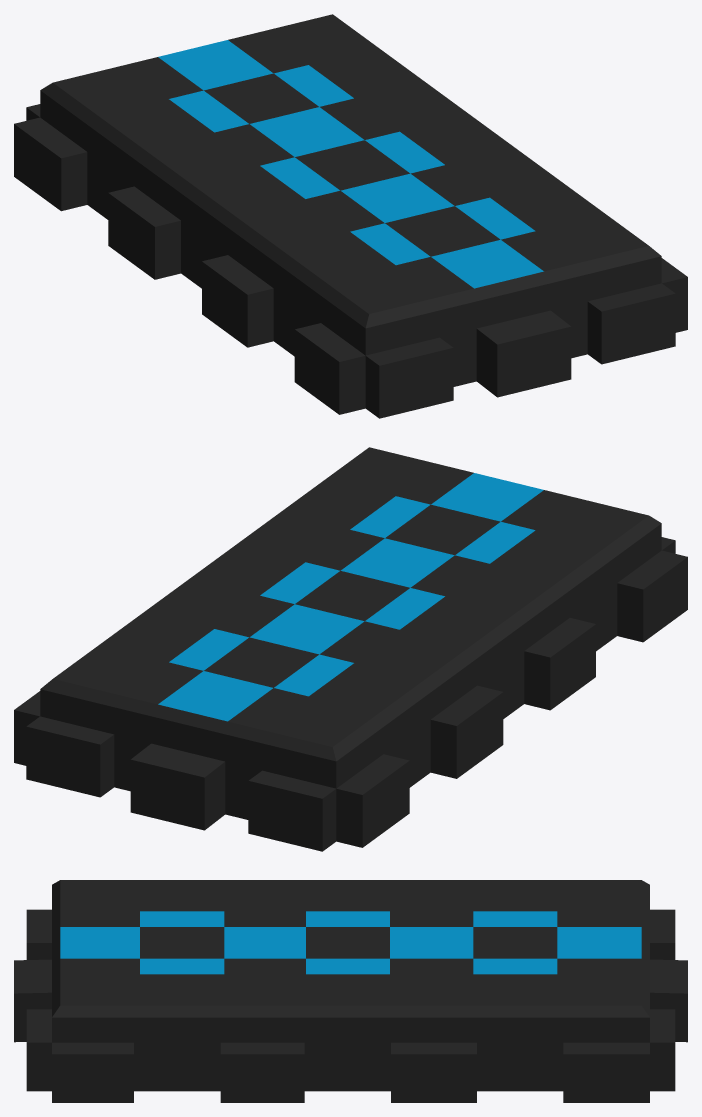
File: FlatBuildNeon03.fbx
3 views of the same model, one above another, from view 1: azimuth 30°, elevation 25°; view 2: azimuth 150°, elevation 25°; view 3: azimuth 270°, elevation 25° (orthographic). The views are drawn at different scales.
Parts seen in each view (by area): view 1: FlatBuildNeon03; view 2: FlatBuildNeon03; view 3: FlatBuildNeon03.
Part boxes in pixels (x1,y1,x2,y2): FlatBuildNeon03: [14, 14, 687, 418]; FlatBuildNeon03: [14, 447, 687, 851]; FlatBuildNeon03: [14, 880, 687, 1102].
Bounding box in the file's own units: 2.35 × 0.5812 × 4.29.
